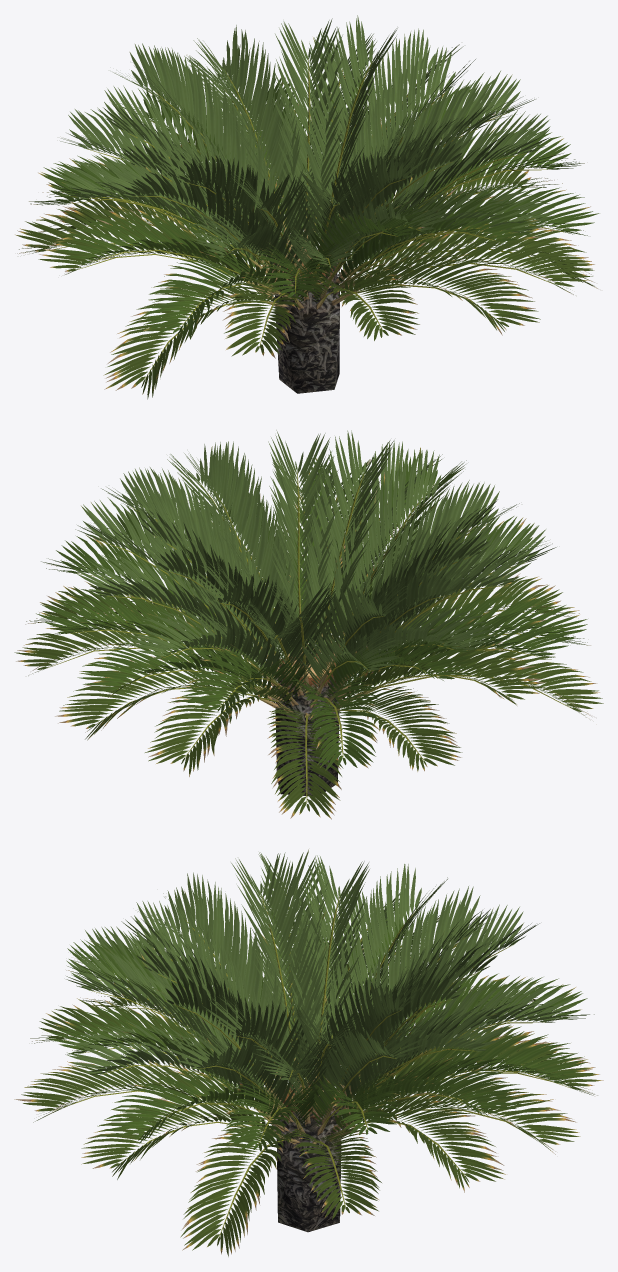
The model's file is Cycas revoluta HD_Standard 1 trunk mat 0_LOD2.fbx.
3 renders of one model, top to bottom at view 1: azimuth 30°, elevation 25°; view 2: azimuth 150°, elevation 25°; view 3: azimuth 270°, elevation 25°, orthographic.
Visible parts, largest first — view 1: Cycas_revoluta_HD; view 2: Cycas_revoluta_HD; view 3: Cycas_revoluta_HD.
Part boxes in pixels (x1,y1,x2,y2): Cycas_revoluta_HD: [15, 15, 599, 399]; Cycas_revoluta_HD: [14, 430, 603, 819]; Cycas_revoluta_HD: [14, 849, 603, 1256].
Bounding box in the file's own units: 0.7592 × 0.4162 × 0.7477.
7 materials, 7 textured.
